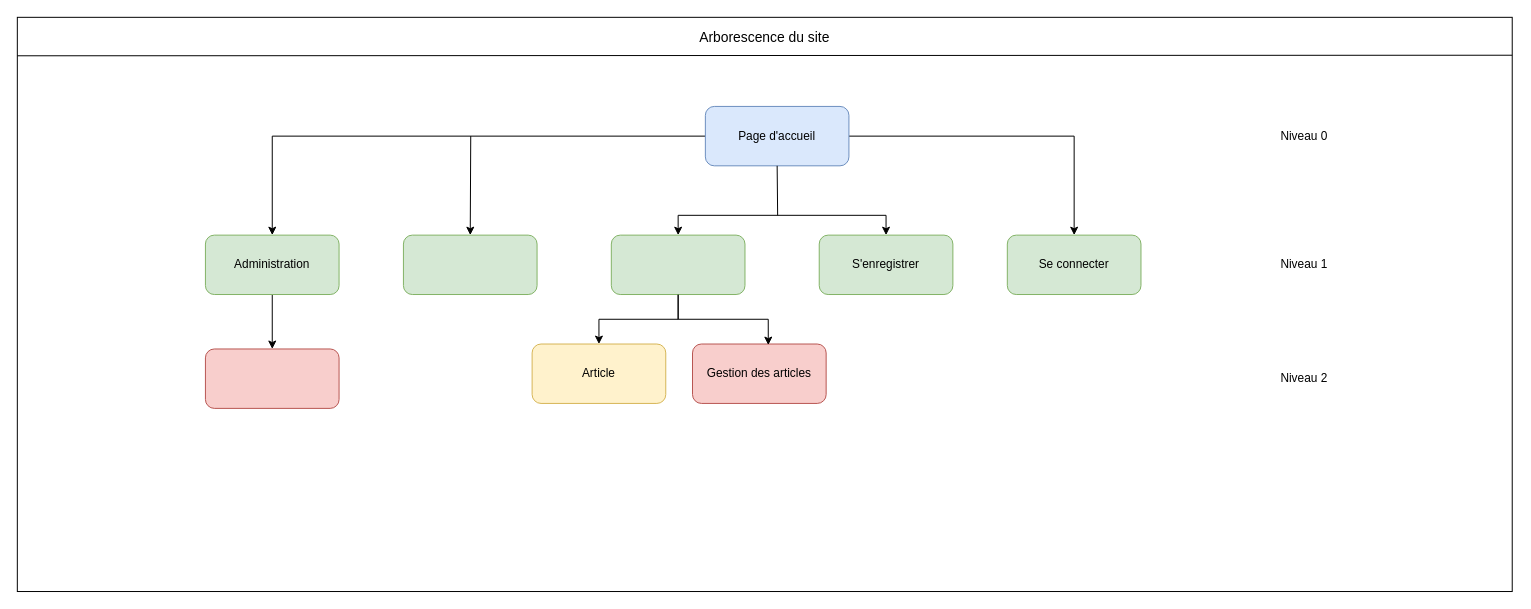
Some shapes in this 1531 by 609 pixel diagram are drawn without their labels. Here are the shapes that lost their labels. From the top down, the centre of each, then its label:
At [469,264]: "Formulaire de contact".
At [677,264]: "Listes des articles".
At [271,378]: "Gestion des commentaires".
